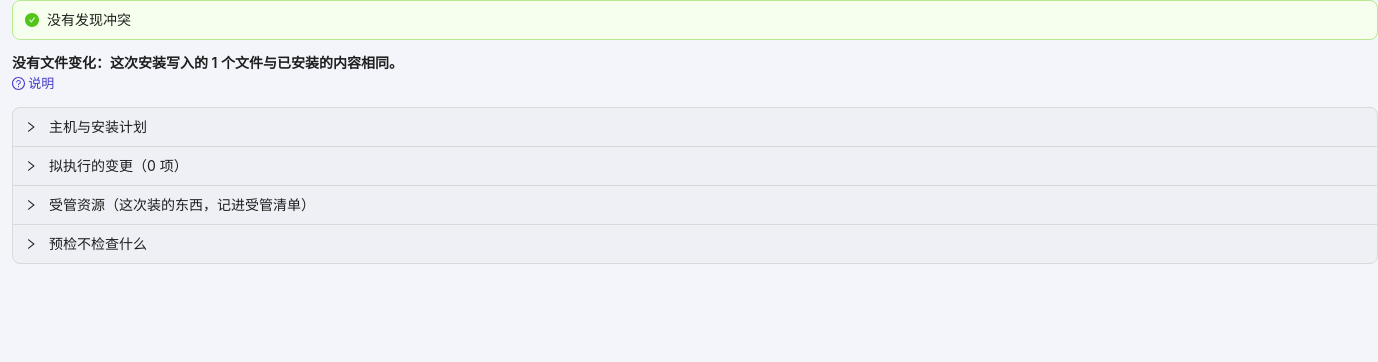
Scenario: preflight file list › says plainly that no file changes
This screenshot has width=1378, height=362.
Expected: the element with test id "preflight-file-summary" shows "没有文件变化", [12, 54, 403, 71]
Click the button "拟执行的变更（0 项）".
click(106, 165)  # box [25, 157, 188, 174]
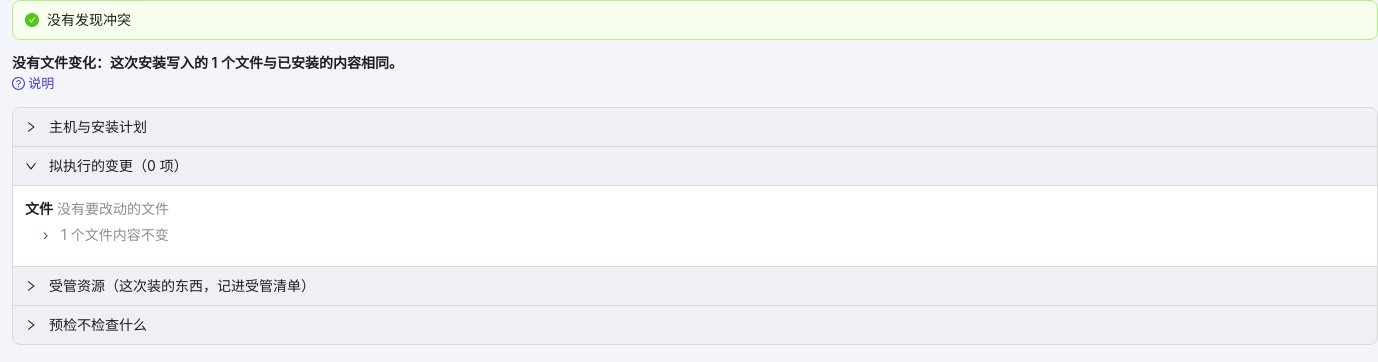
Expected: the element with test id "preflight-changes" shows "没有要改动的文件", [53, 200, 169, 217]
